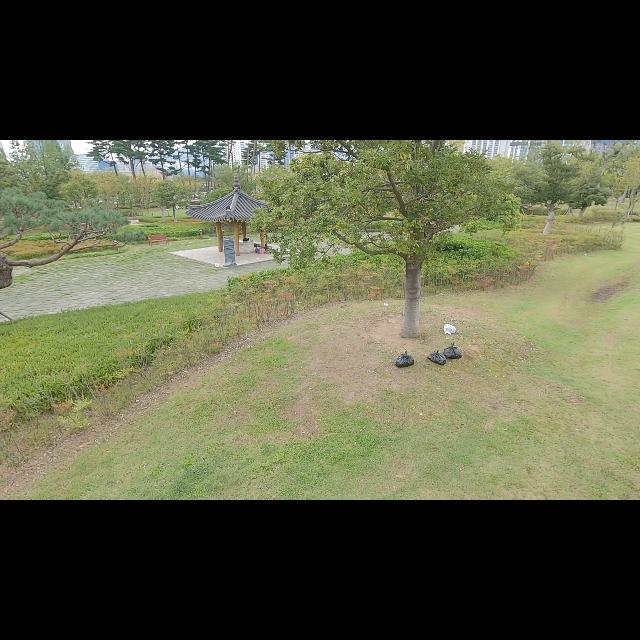trash: (395, 348, 415, 368), (444, 342, 462, 360), (428, 350, 447, 366), (444, 324, 456, 334)
